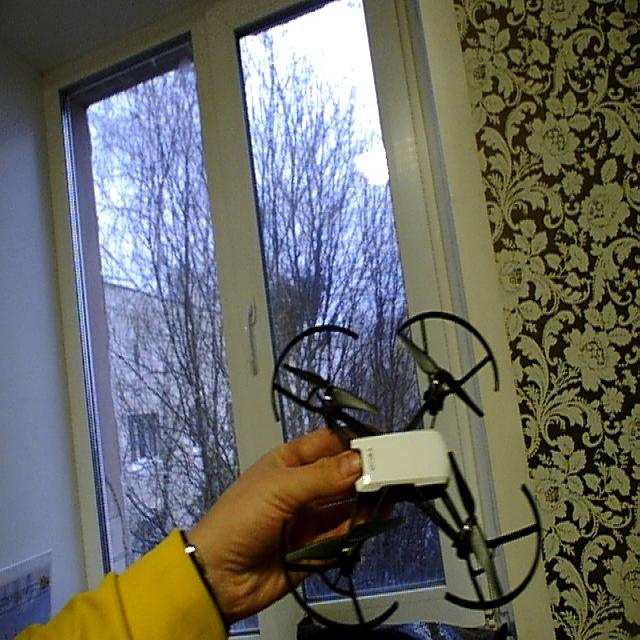drone: (265, 304, 552, 640)
